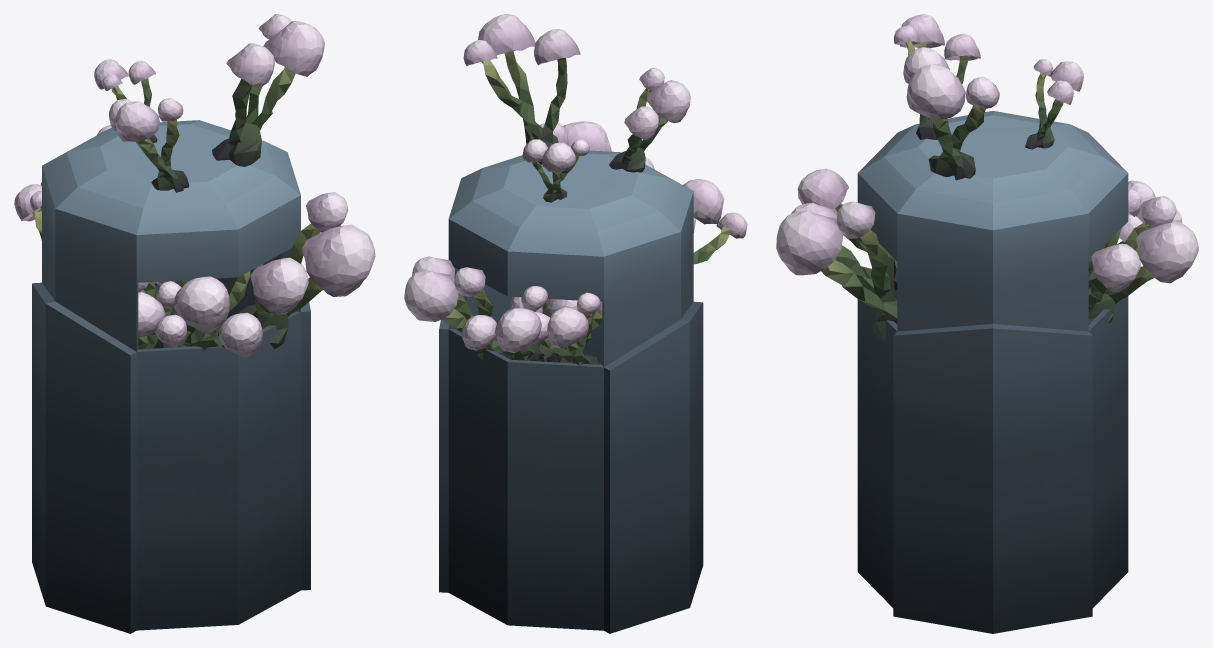
File: Bin_Infested_FBX.fbx
3 renders of one model, left to right at view 1: azimuth 30°, elevation 25°; view 2: azimuth 150°, elevation 25°; view 3: azimuth 270°, elevation 25°, orthographic. The views are drawn at different scales.
Visible parts, largest first — view 1: Top_73; view 2: Top_73; view 3: Top_73.
Boxes of the visible parts, x1,y1,x2,y2 form: Top_73: [14, 14, 375, 633]; Top_73: [404, 14, 747, 633]; Top_73: [776, 14, 1198, 633].
Bounding box in the file's own units: 71.6 × 150 × 103.
